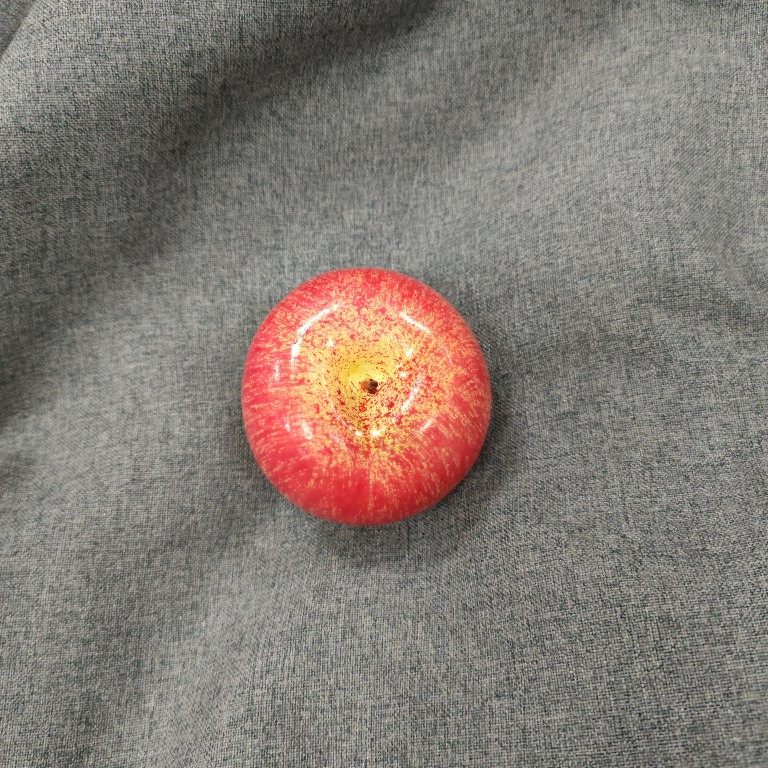fruit_apple: (233, 261, 502, 535)
